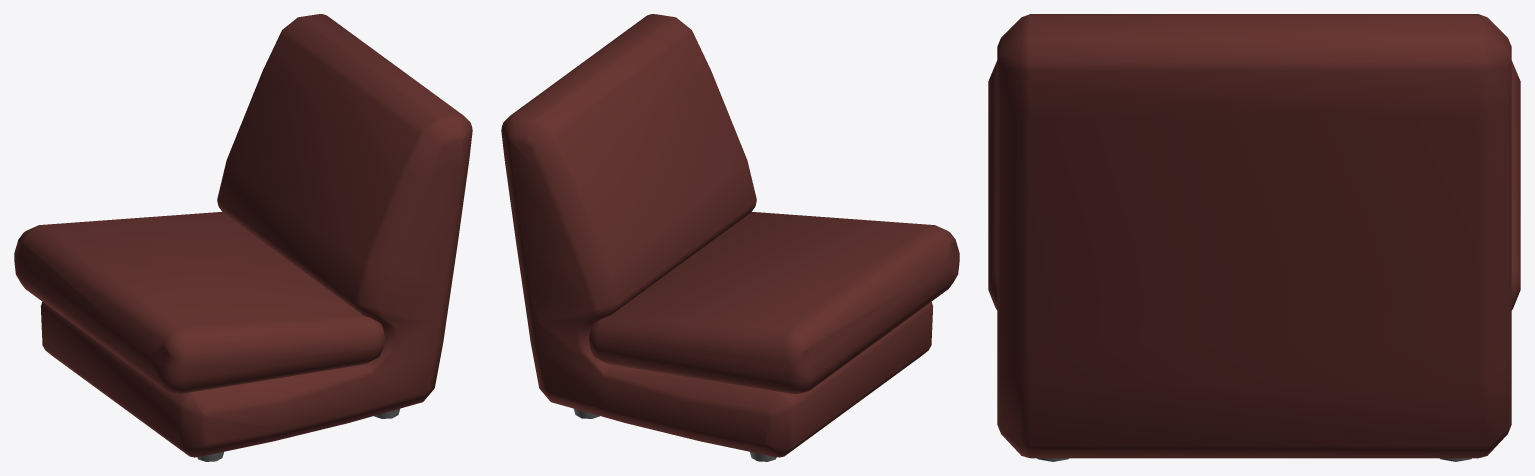
The model's file is Lounger Chair.fbx.
3 views of the same model, side by side, from view 1: azimuth 30°, elevation 25°; view 2: azimuth 150°, elevation 25°; view 3: azimuth 270°, elevation 25° (orthographic). The views are drawn at different scales.
Visible parts, largest first — view 1: Lounge Chair, Loung Chair Seat; view 2: Lounge Chair, Loung Chair Seat; view 3: Lounge Chair, Loung Chair Seat.
Part boxes in pixels (x1,y1,x2,y2): Lounge Chair: [40, 14, 472, 457]; Loung Chair Seat: [14, 212, 384, 394]; Lounge Chair: [501, 14, 933, 457]; Loung Chair Seat: [589, 212, 959, 394]; Lounge Chair: [997, 14, 1511, 458]; Loung Chair Seat: [988, 60, 1520, 310].
Size of the model in its own units: 4641 by 4139 by 4070.
